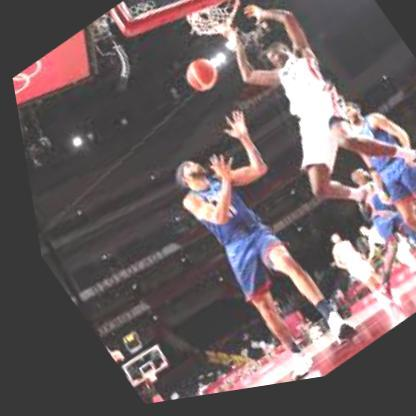basketball: (175, 56, 223, 106)
rim: (179, 0, 250, 53)
